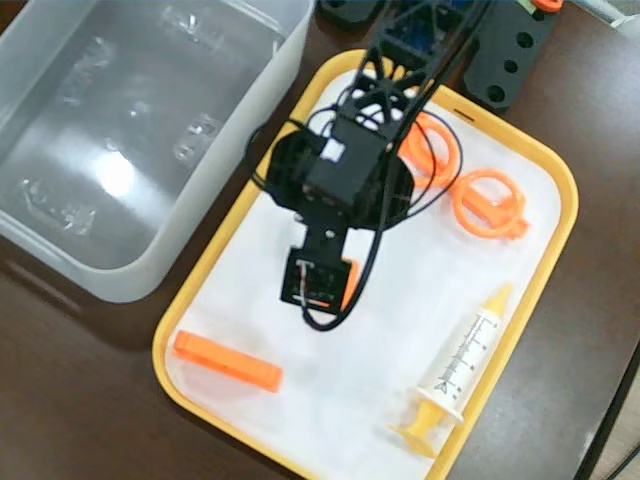syringe: (385, 277, 516, 464)
